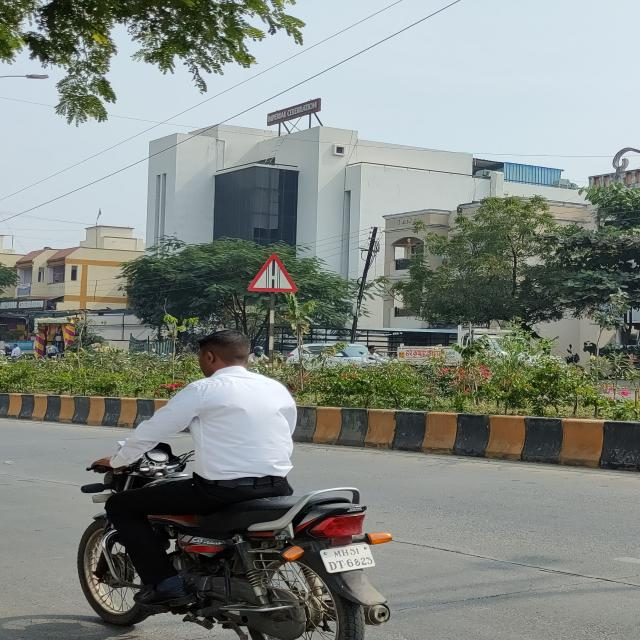GAP_IN_MEDIAN: (246, 252, 299, 292)
